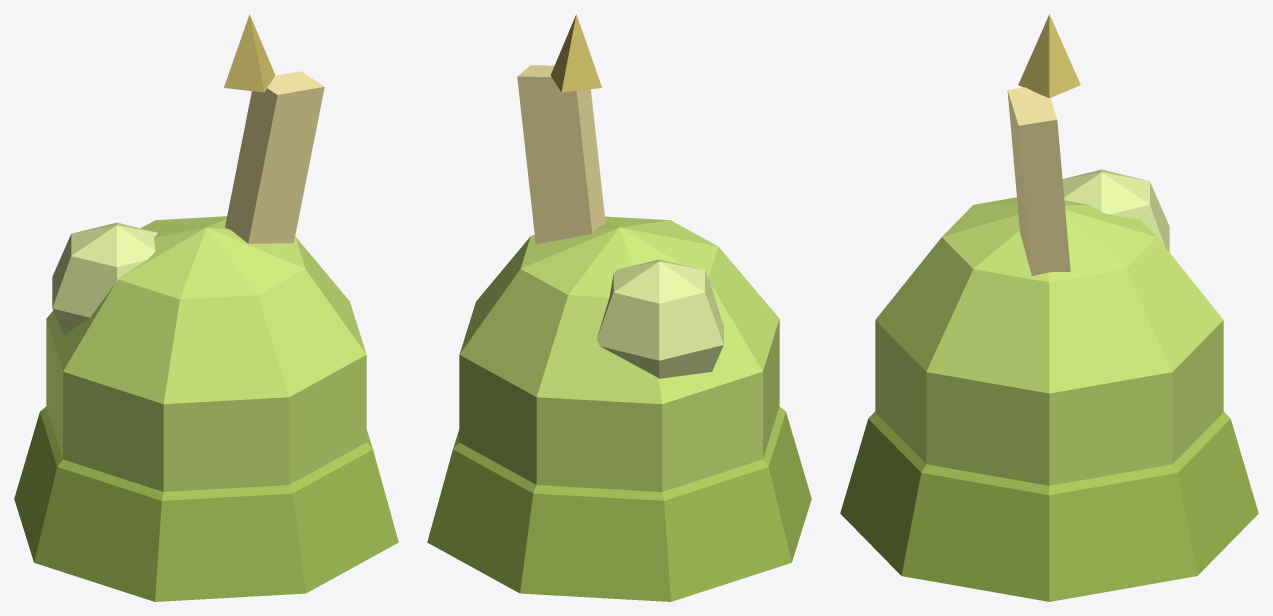
File: bio_volt_item.glb
3 renders of one model, left to right at view 1: azimuth 30°, elevation 25°; view 2: azimuth 150°, elevation 25°; view 3: azimuth 270°, elevation 25°, orthographic. The views are drawn at different scales.
Visible parts, largest first — view 1: AcidBody, AcidBase, ElectricSprout, AcidBump, SparkTip; view 2: AcidBody, AcidBase, AcidBump, ElectricSprout, SparkTip; view 3: AcidBody, AcidBase, ElectricSprout, AcidBump, SparkTip.
Part boxes in pixels (x1=…): AcidBody: x1=46, y1=216, x2=366, y2=491; AcidBase: x1=14, y1=406, x2=398, y2=601; ElectricSprout: x1=225, y1=71, x2=324, y2=243; AcidBump: x1=52, y1=222, x2=157, y2=334; SparkTip: x1=224, y1=14, x2=275, y2=92; AcidBody: x1=459, y1=216, x2=779, y2=491; AcidBase: x1=427, y1=406, x2=811, y2=601; AcidBump: x1=596, y1=259, x2=723, y2=378; ElectricSprout: x1=517, y1=65, x2=605, y2=244; SparkTip: x1=550, y1=14, x2=601, y2=92; AcidBody: x1=875, y1=197, x2=1223, y2=485; AcidBase: x1=840, y1=412, x2=1258, y2=601; ElectricSprout: x1=1007, y1=87, x2=1070, y2=275; AcidBump: x1=1062, y1=169, x2=1169, y2=251; SparkTip: x1=1018, y1=14, x2=1080, y2=98.
Size of the model in its own units: 0.08 by 0.115 by 0.08.
